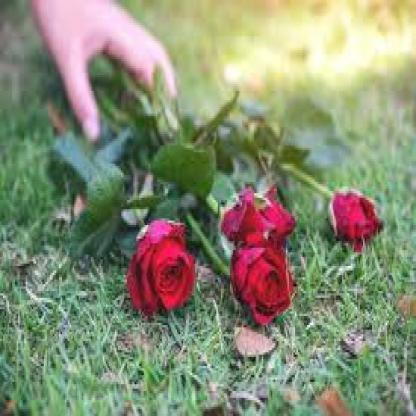Rose-Mawar: (124, 178, 387, 326)
